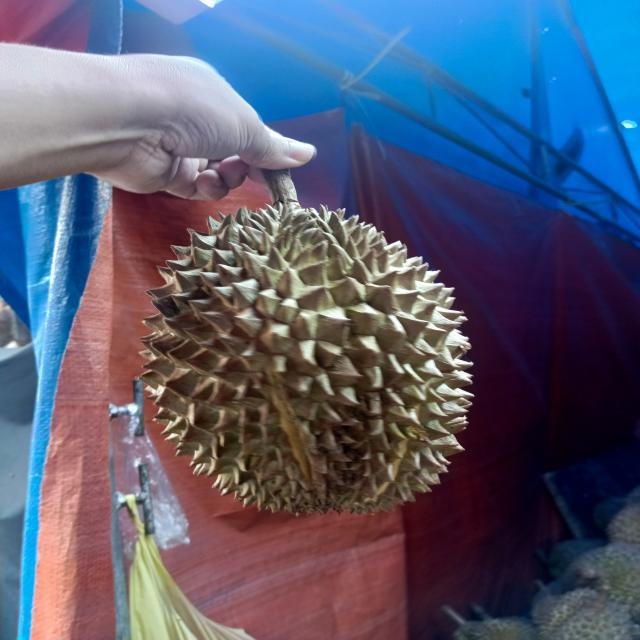mature: (136, 200, 474, 512)
